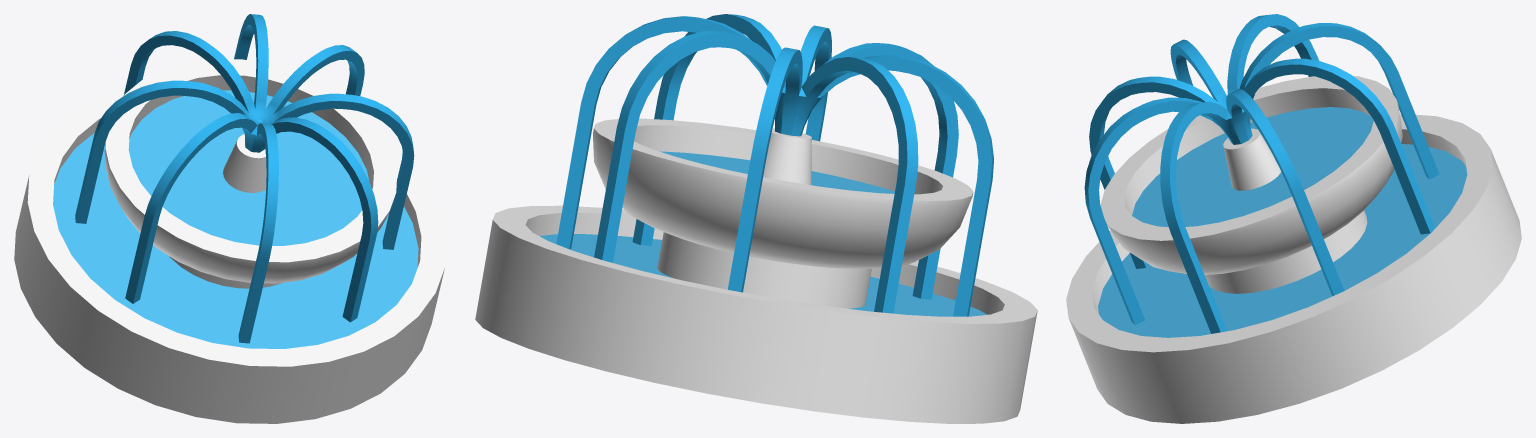
The model's file is fountain.glb.
3 views of the same model, side by side, from view 1: azimuth 30°, elevation 25°; view 2: azimuth 150°, elevation 25°; view 3: azimuth 270°, elevation 25° (orthographic). The views are drawn at different scales.
Visible parts, largest first — view 1: Circle.2358; view 2: Circle.2358; view 3: Circle.2358.
Part boxes in pixels (bbox=[...]): Circle.2358: bbox=[14, 14, 446, 423]; Circle.2358: bbox=[475, 14, 1037, 423]; Circle.2358: bbox=[1066, 14, 1521, 423].
Bounding box in the file's own units: 2.16 × 1.75 × 2.17.
1 material, 1 textured.
